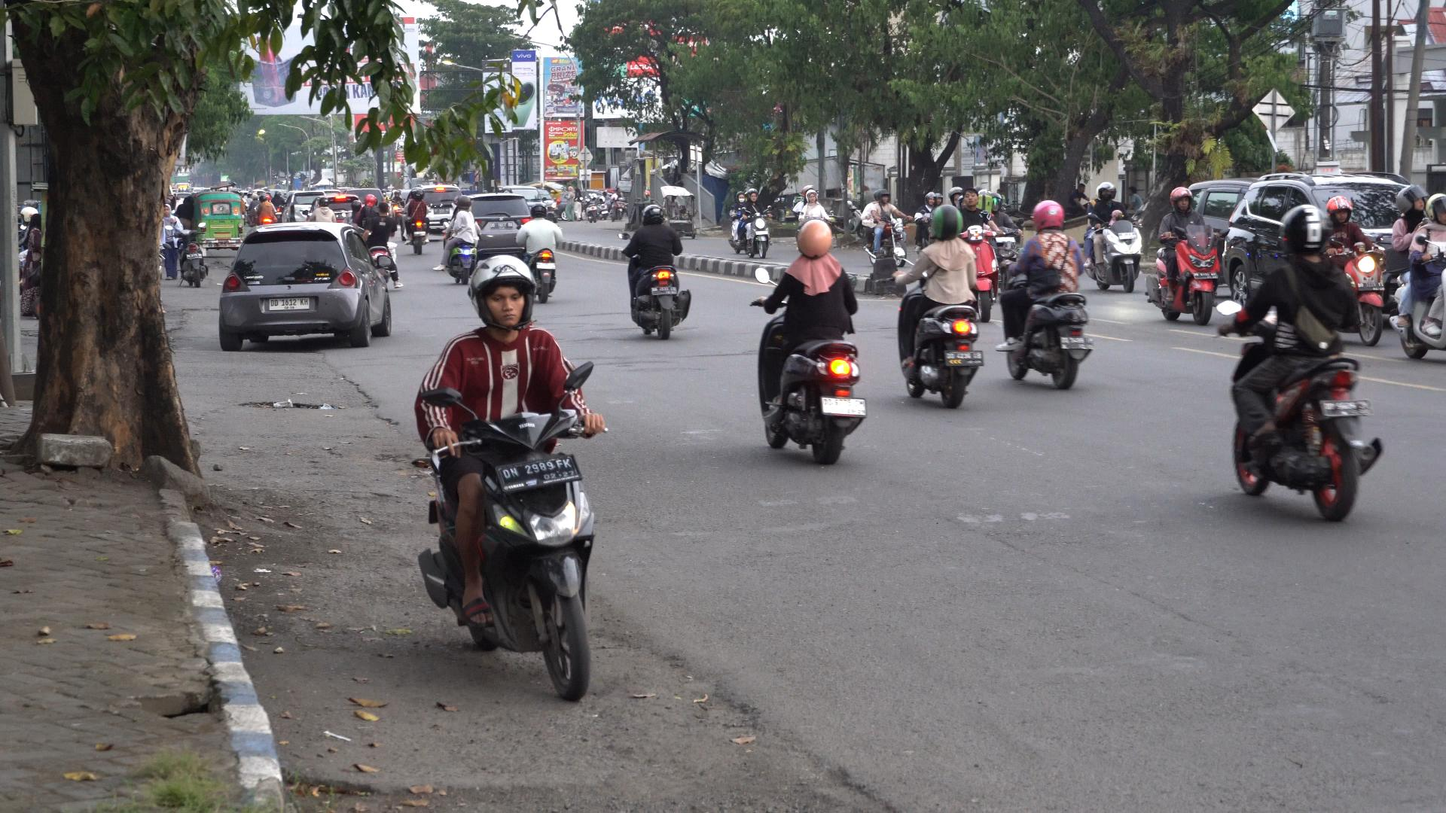number-plate: (496, 454, 582, 491)
